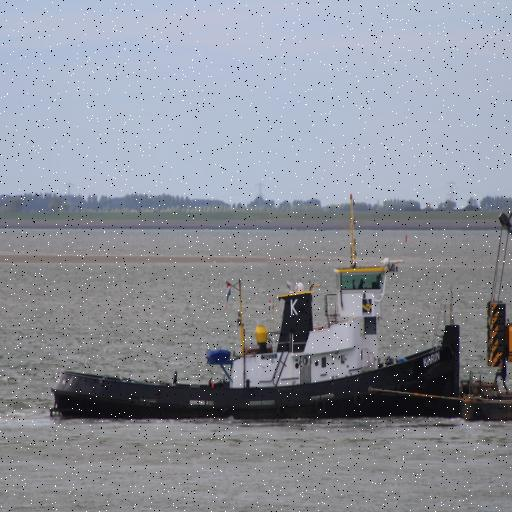tugboat: (45, 252, 466, 434)
